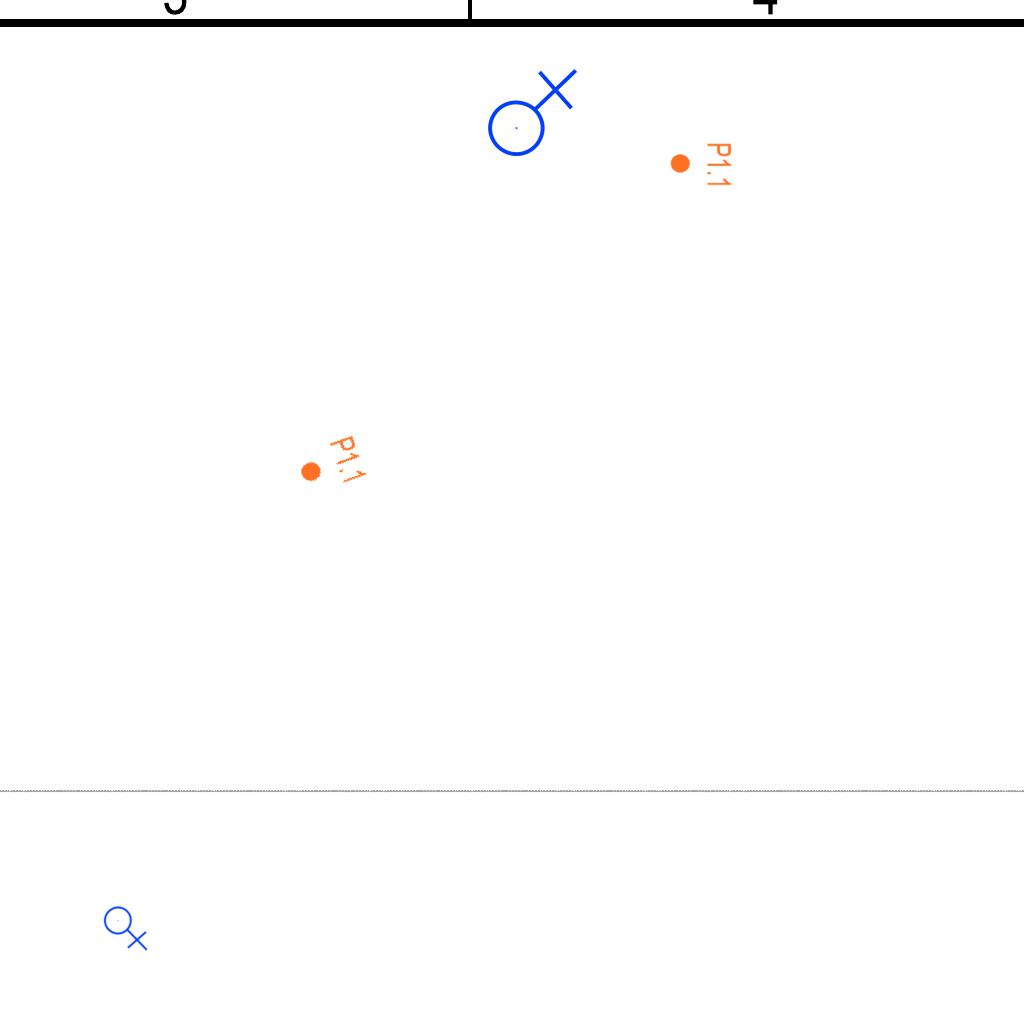Downlight_LED_Einbauleuchten_Flur: (293, 433, 369, 499), (669, 142, 733, 188)
Elektroanschluss_allgemein_230V_Geraeteanschlussdose_230V: (479, 64, 578, 158), (103, 902, 150, 951)
